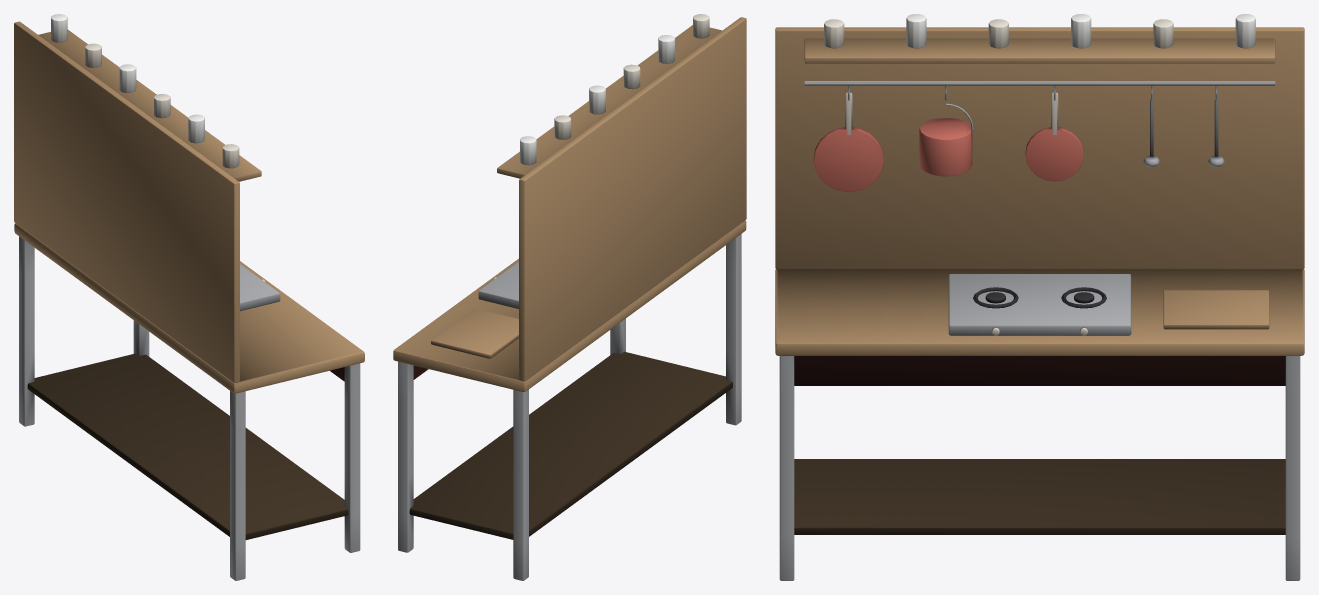
Rendered from kitchen_corner.glb.
3 renders of one model, left to right at view 1: azimuth 30°, elevation 25°; view 2: azimuth 150°, elevation 25°; view 3: azimuth 270°, elevation 25°, orthographic. The views are drawn at different scales.
Visible parts, largest first — view 1: PART; view 2: PART; view 3: PART.
Part boxes in pixels (bbox=[...]): PART: bbox=[14, 14, 364, 580]; PART: bbox=[393, 14, 746, 580]; PART: bbox=[775, 14, 1304, 580].
Bounding box in the file's own units: 0.62 × 1.88 × 1.8.
